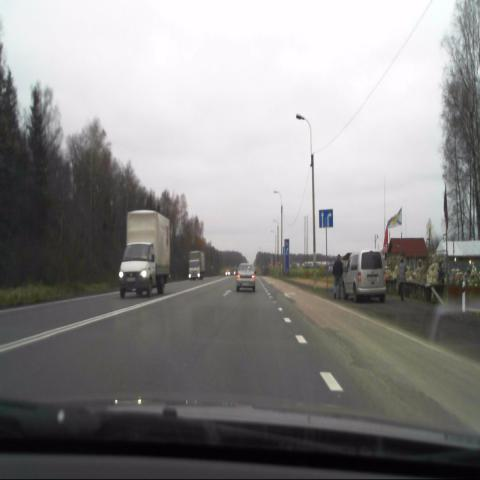5_15_2_2: (318, 209, 334, 228)
